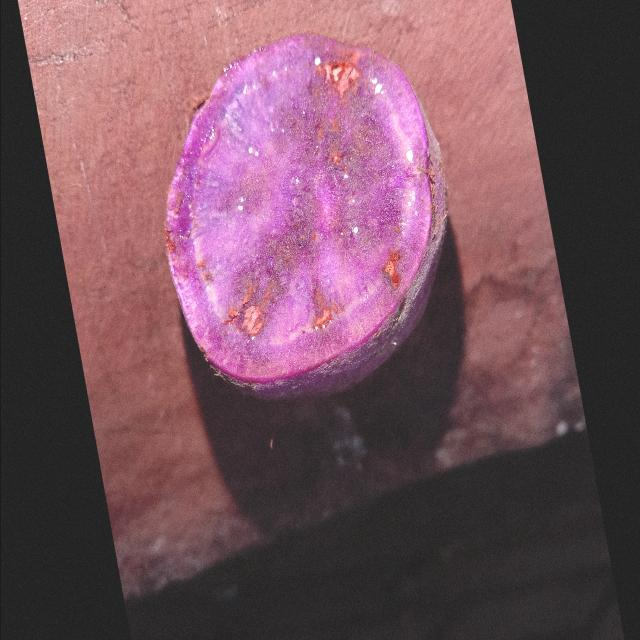Sick Sweet Potato_Tuber Rot: (165, 33, 445, 398)
